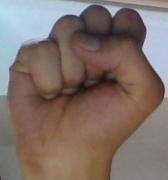S: (3, 1, 168, 167)
